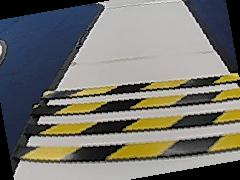bump: (20, 70, 239, 169)
